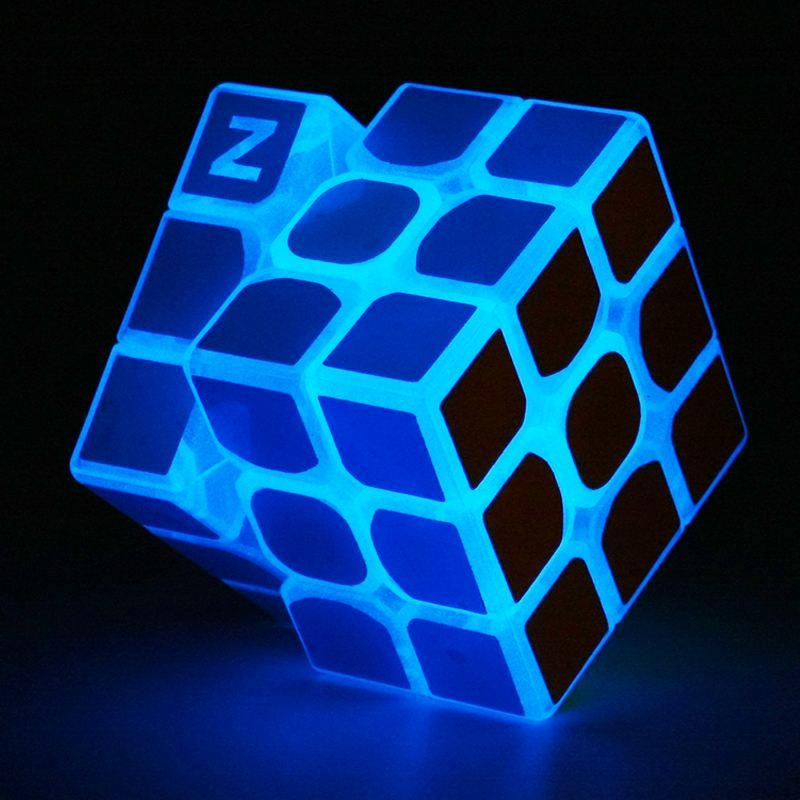cube: (30, 49, 770, 747)
